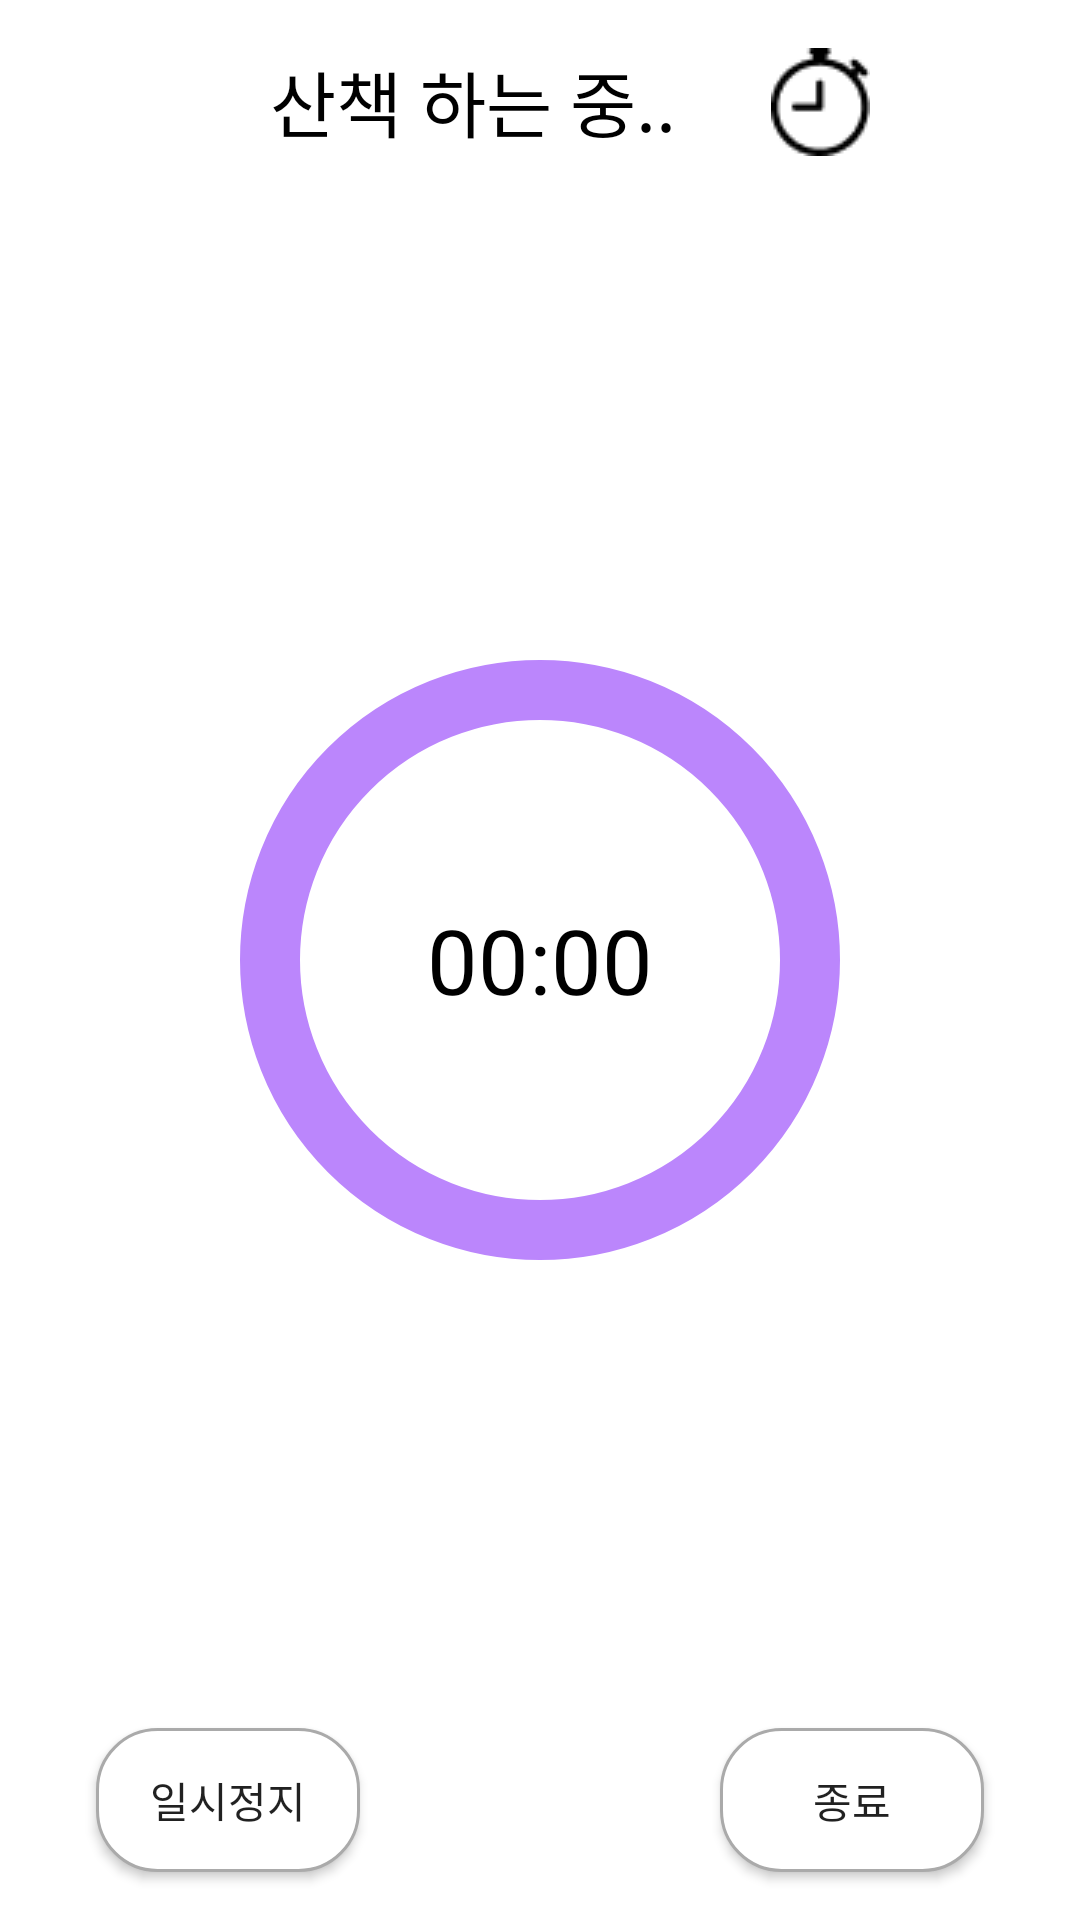

Icon click points for this 1080w x 1920h phone screenshot, format [x,y]:
timer: [820,102]
